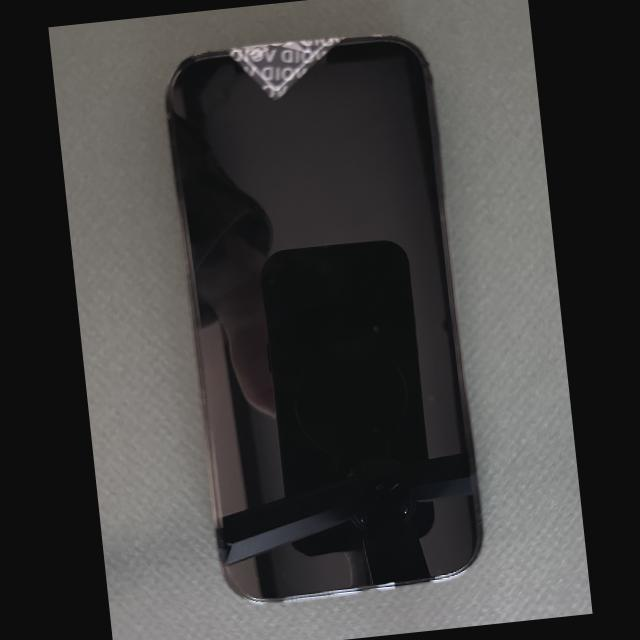phone: (165, 35, 480, 599)
sticker: (224, 37, 346, 100)
